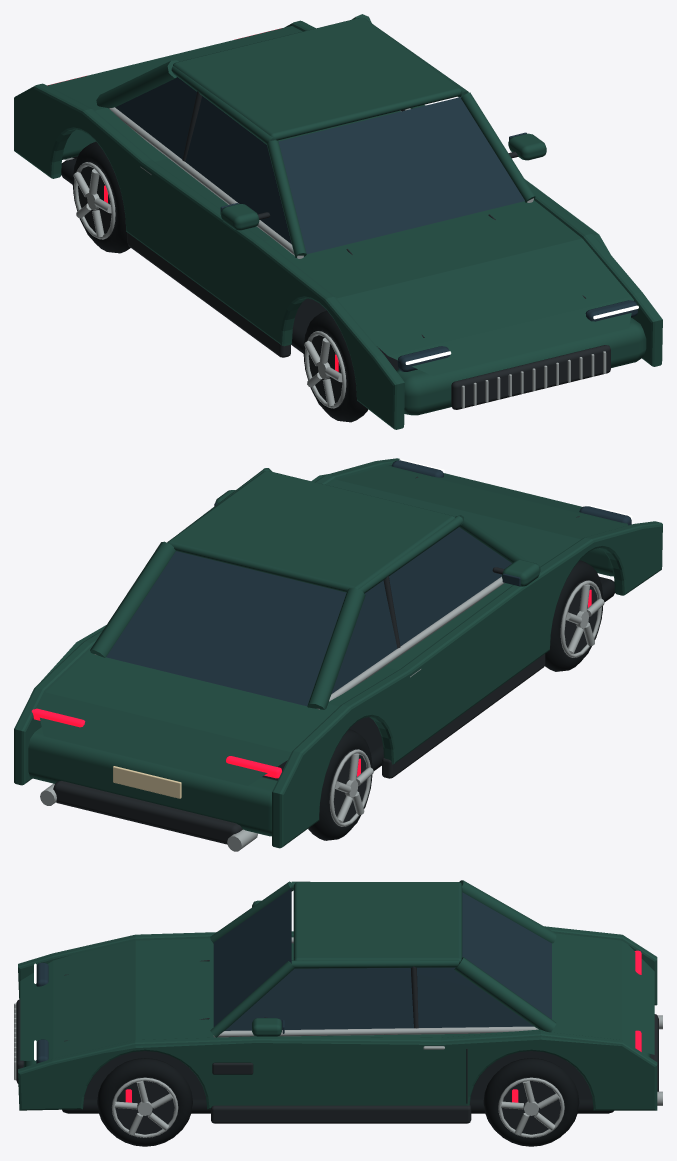
File: grove-gt.glb
3 renders of one model, top to bottom at view 1: azimuth 30°, elevation 25°; view 2: azimuth 150°, elevation 25°; view 3: azimuth 270°, elevation 25°, orthographic. The views are drawn at different scales.
Parts seen in each view (by area): view 1: grove-paint (×2), grove-glass, grove-trim (×3), grove-alloy (×3), grove-rubber (×3); view 2: grove-paint (×2), grove-glass, grove-trim (×3), grove-alloy (×3), grove-rubber (×3), grove-plate, grove-taillight; view 3: grove-paint (×2), grove-glass, grove-trim (×5), grove-rubber (×3), grove-alloy (×4).
Boxes of the visible parts, box(x1,y1,x2,y2) form: grove-paint (×2): box(14, 14, 662, 429); grove-glass: box(115, 77, 637, 371); grove-trim (×3): box(72, 91, 610, 409); grove-alloy (×3): box(64, 104, 606, 408); grove-rubber (×3): box(61, 141, 398, 422); grove-paint (×2): box(14, 458, 662, 848); grove-glass: box(106, 460, 631, 706); grove-trim (×3): box(53, 476, 597, 844); grove-alloy (×3): box(40, 576, 604, 851); grove-rubber (×3): box(262, 560, 614, 840); grove-plate: box(113, 766, 181, 798); grove-taillight: box(31, 708, 281, 778); grove-paint (×2): box(18, 880, 657, 1110); grove-glass: box(36, 887, 551, 1063); grove-trim (×5): box(16, 960, 658, 1134); grove-rubber (×3): box(62, 1051, 613, 1146); grove-alloy (×4): box(14, 937, 662, 1137).
Bounding box in the file's own units: 2.21 × 1.44 × 4.74.
